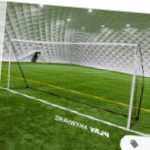goals: (5, 35, 150, 134)
